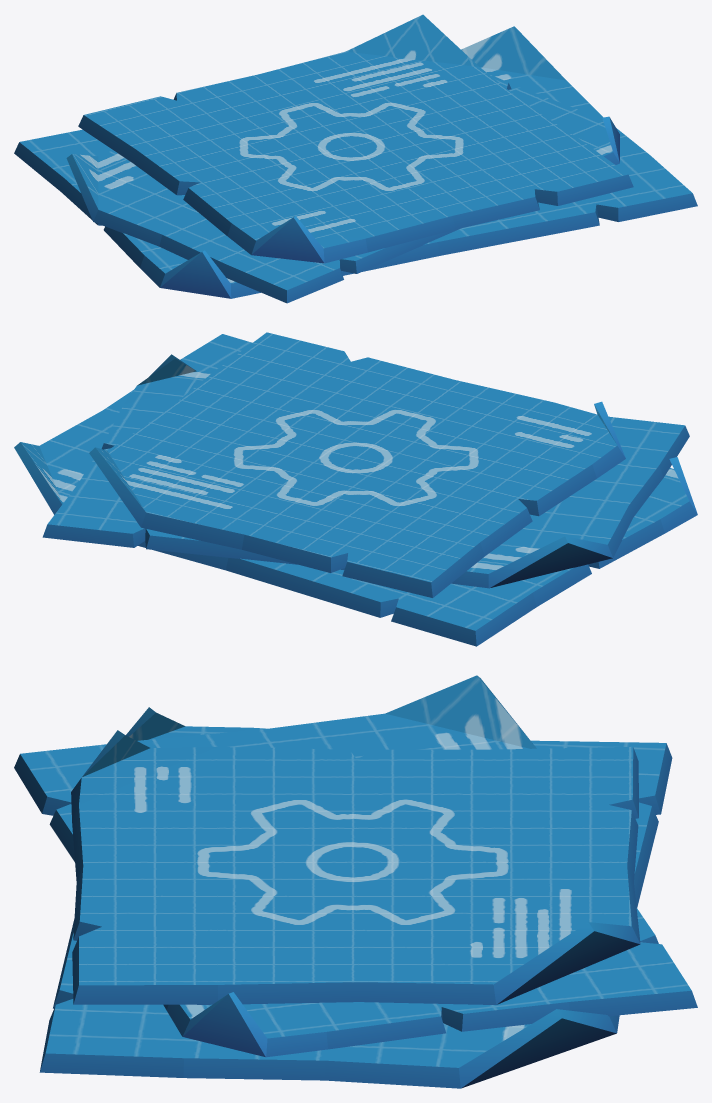
File: blueprint_stacked.glb
3 renders of one model, top to bottom at view 1: azimuth 30°, elevation 25°; view 2: azimuth 150°, elevation 25°; view 3: azimuth 270°, elevation 25°, orthographic. The views are drawn at different scales.
Parts seen in each view (by area): view 1: blueprint_stacked; view 2: blueprint_stacked; view 3: blueprint_stacked.
Boxes of the visible parts, box(x1,y1,x2,y2) form: blueprint_stacked: box(14, 14, 697, 303); blueprint_stacked: box(14, 332, 697, 646); blueprint_stacked: box(14, 675, 697, 1088).
Bounding box in the file's own units: 2.12 × 0.2712 × 1.75.
Materials: 2 (2 with a texture image).
